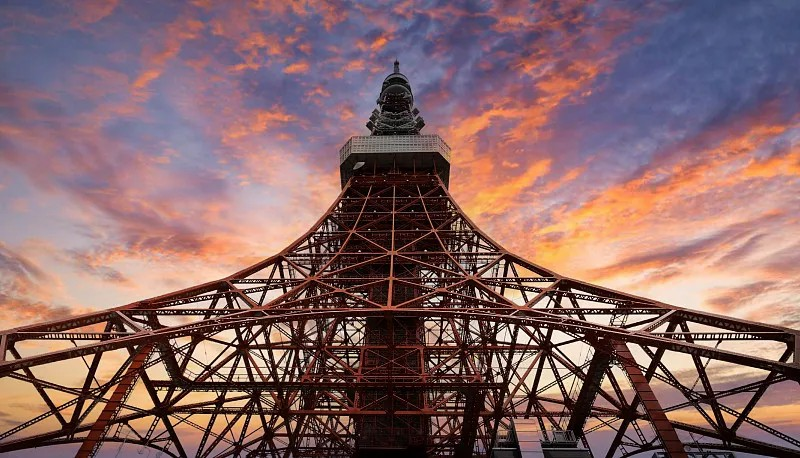Tokyo: (1, 53, 800, 458)
